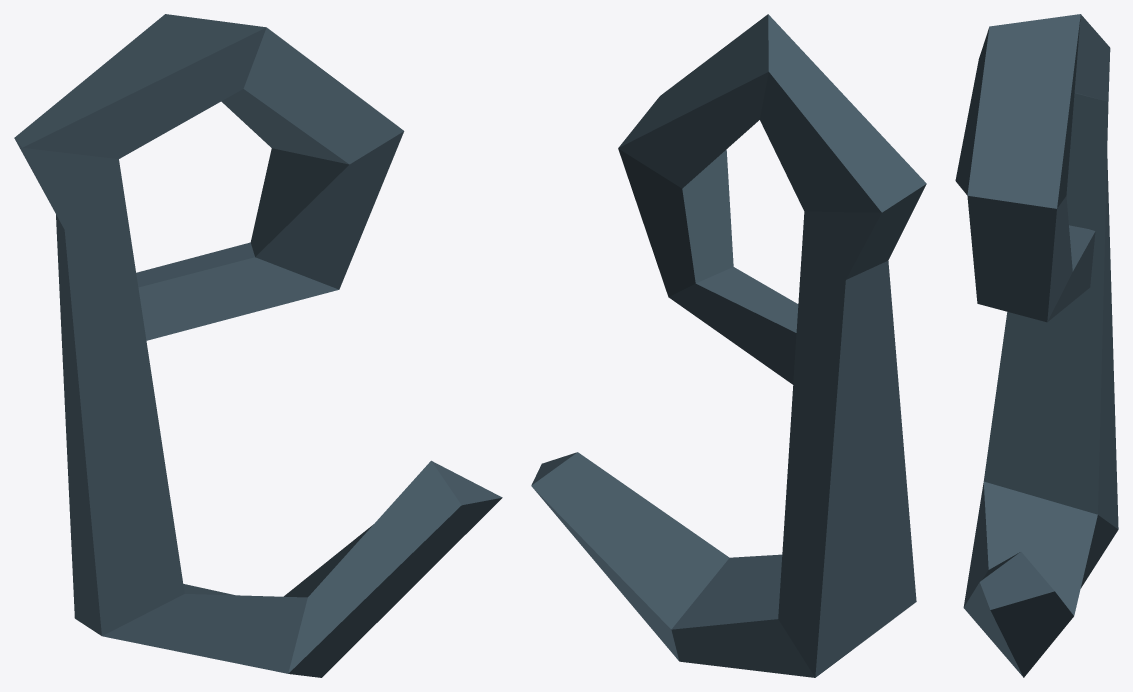
File: lowercase-r.glb
The picture shows the model from 3 angles, left to right: view 1: azimuth 30°, elevation 25°; view 2: azimuth 150°, elevation 25°; view 3: azimuth 270°, elevation 25°; orthographic projection. The views are drawn at different scales.
Size of the model in its own units: 0.2889 by 0.4265 by 0.1019.
